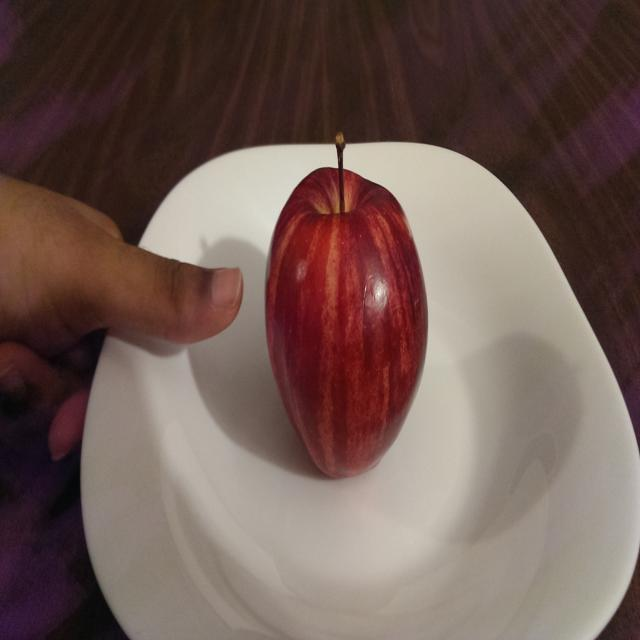Apple: (256, 118, 436, 487)
Finger: (148, 242, 250, 353)
